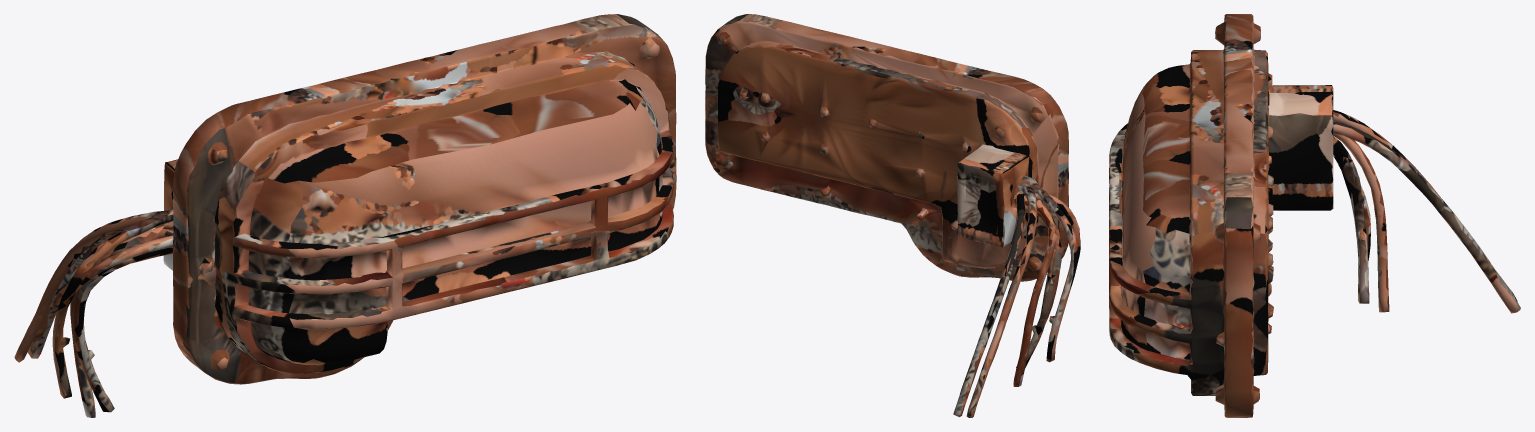
Rendered from WallLight.fbx.
3 renders of one model, left to right at view 1: azimuth 30°, elevation 25°; view 2: azimuth 150°, elevation 25°; view 3: azimuth 270°, elevation 25°, orthographic. The views are drawn at different scales.
Visible parts, largest first — view 1: WallLight; view 2: WallLight; view 3: WallLight.
Boxes of the visible parts, x1,y1,x2,y2 form: WallLight: (14, 14, 676, 417); WallLight: (705, 14, 1080, 417); WallLight: (1109, 14, 1520, 417).
Size of the model in its own units: 59.97 by 35.67 by 40.81.
